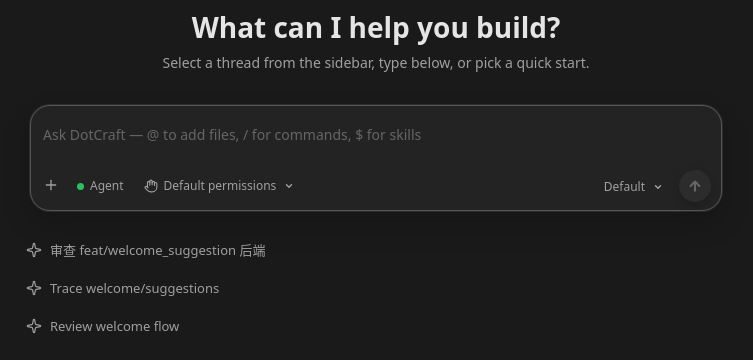
ConversationWelcome composer › strips markdown markers from dynamic suggestion titles only
Expected: the button "Trace welcome/suggestions" is shown, [16,271,736,305]
Expected: the button "Review welcome flow" is shown, [16,309,736,343]
Step 1. Click the button "审查 feat/welcome_suggestion 后端" → (158, 250), box [16,233,736,267]
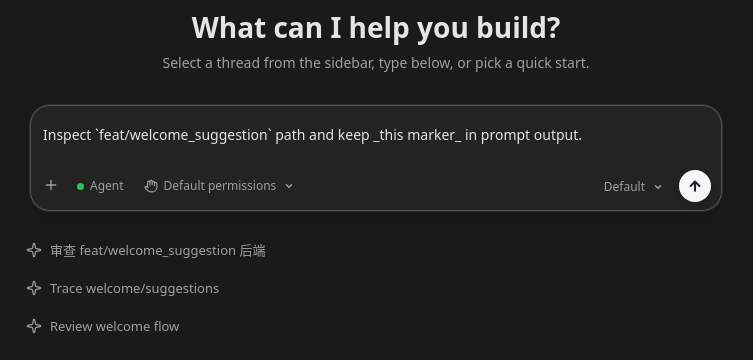
Now the field reads "Inspect `feat/welcome_suggestion` path and keep _this marker_ in prompt output.", box [43,125,582,144]
